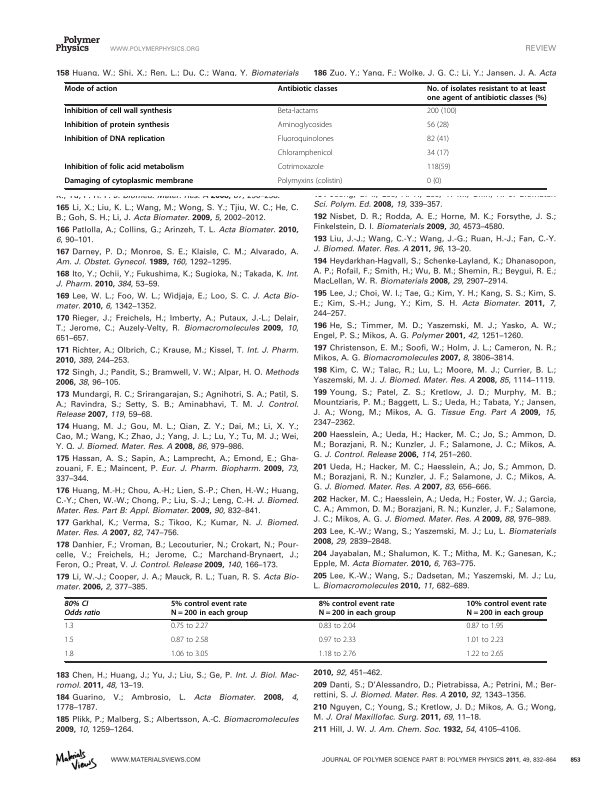borderless: (63, 81, 546, 188), (63, 596, 546, 661)
cell: (426, 85, 547, 103), (466, 600, 547, 618), (170, 600, 249, 618), (318, 600, 397, 618), (64, 177, 194, 187), (64, 163, 185, 173), (64, 107, 173, 117), (64, 121, 170, 131), (64, 135, 166, 145), (277, 177, 343, 187), (64, 600, 101, 617), (277, 135, 335, 145), (277, 121, 333, 131), (277, 149, 333, 159), (277, 85, 339, 94), (64, 85, 118, 94), (277, 163, 324, 173), (277, 107, 319, 117), (426, 107, 457, 117), (170, 623, 209, 630), (318, 623, 357, 630), (466, 623, 505, 630), (170, 637, 209, 644), (318, 637, 357, 644), (466, 637, 505, 644), (170, 651, 209, 658), (318, 651, 357, 658), (466, 651, 505, 658), (426, 163, 451, 173), (426, 121, 450, 131), (426, 135, 450, 145), (426, 149, 450, 159), (426, 177, 442, 187), (64, 623, 74, 630), (64, 637, 74, 644), (64, 651, 74, 658)
